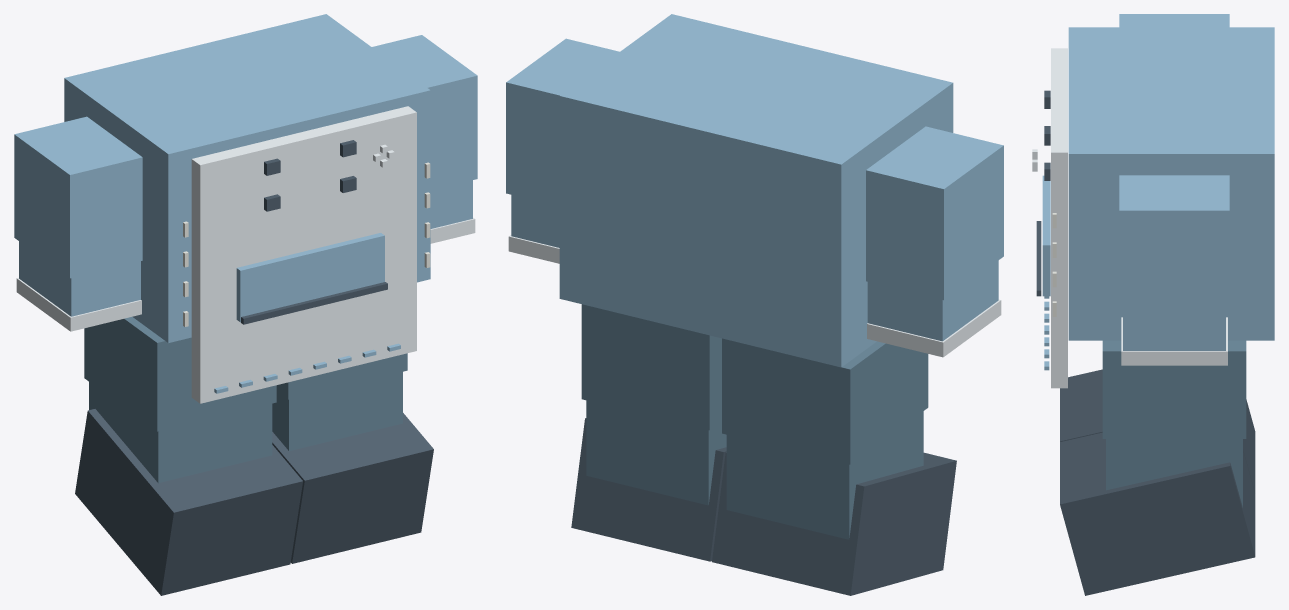
Rendered from chef-sky.glb.
3 renders of one model, left to right at view 1: azimuth 30°, elevation 25°; view 2: azimuth 150°, elevation 25°; view 3: azimuth 270°, elevation 25°, orthographic. The views are drawn at different scales.
Parts seen in each view (by area): view 1: apron, jacket, shoe-Right, upper-sleeve-Right, shoe-Left, trouser-Right, lower-trouser-Right, upper-sleeve-Left, apron-pocket, lower-trouser-Left, lower-sleeve-Right, trouser-Left (+4 smaller); view 2: jacket, upper-sleeve-Right, trouser-Right, shoe-Right, trouser-Left, lower-trouser-Right, lower-trouser-Left, upper-sleeve-Left, shoe-Left, lower-sleeve-Right, cuff-Right, lower-sleeve-Left (+1 smaller); view 3: jacket, shoe-Left, upper-sleeve-Left, trouser-Left, apron, lower-trouser-Left, lower-sleeve-Left, shoe-Right, cuff-Left, upper-sleeve-Right, apron-pocket, design-chef-apron-pocket-binding.
Boxes of the visible parts, <box> form: apron: <box>191,106,416,403</box>; jacket: <box>64,14,430,342</box>; shoe-Right: <box>75,409,302,595</box>; upper-sleeve-Right: <box>14,116,142,278</box>; shoe-Left: <box>272,413,433,563</box>; trouser-Right: <box>84,317,276,431</box>; lower-trouser-Right: <box>89,382,272,482</box>; upper-sleeve-Left: <box>372,35,477,190</box>; apron-pocket: <box>236,233,384,322</box>; lower-trouser-Left: <box>272,372,402,451</box>; lower-sleeve-Right: <box>19,241,140,316</box>; trouser-Left: <box>276,353,407,399</box>; jacket: <box>559,14,953,367</box>; upper-sleeve-Right: <box>866,126,1003,300</box>; trouser-Right: <box>722,338,928,464</box>; shoe-Right: <box>712,452,956,595</box>; trouser-Left: <box>581,304,721,430</box>; lower-trouser-Right: <box>726,411,923,539</box>; lower-trouser-Left: <box>586,400,726,505</box>; upper-sleeve-Left: <box>506,38,619,206</box>; shoe-Left: <box>571,418,726,561</box>; lower-sleeve-Right: <box>867,260,998,341</box>; cuff-Right: <box>867,299,1001,357</box>; lower-sleeve-Left: <box>511,195,559,247</box>; jacket: <box>1068,27,1274,340</box>; shoe-Left: <box>1060,432,1255,595</box>; upper-sleeve-Left: <box>1119,175,1229,312</box>; trouser-Left: <box>1102,340,1246,438</box>; apron: <box>1051,48,1067,388</box>; lower-trouser-Left: <box>1106,439,1242,507</box>; lower-sleeve-Left: <box>1123,312,1225,350</box>; shoe-Right: <box>1060,369,1255,493</box>; cuff-Left: <box>1121,317,1227,365</box>; upper-sleeve-Right: <box>1119,14,1229,27</box>; apron-pocket: <box>1042,175,1050,296</box>; design-chef-apron-pocket-binding: <box>1036,221,1041,296</box>.
Size of the model in its own units: 1.07 by 1.13 by 0.559.
